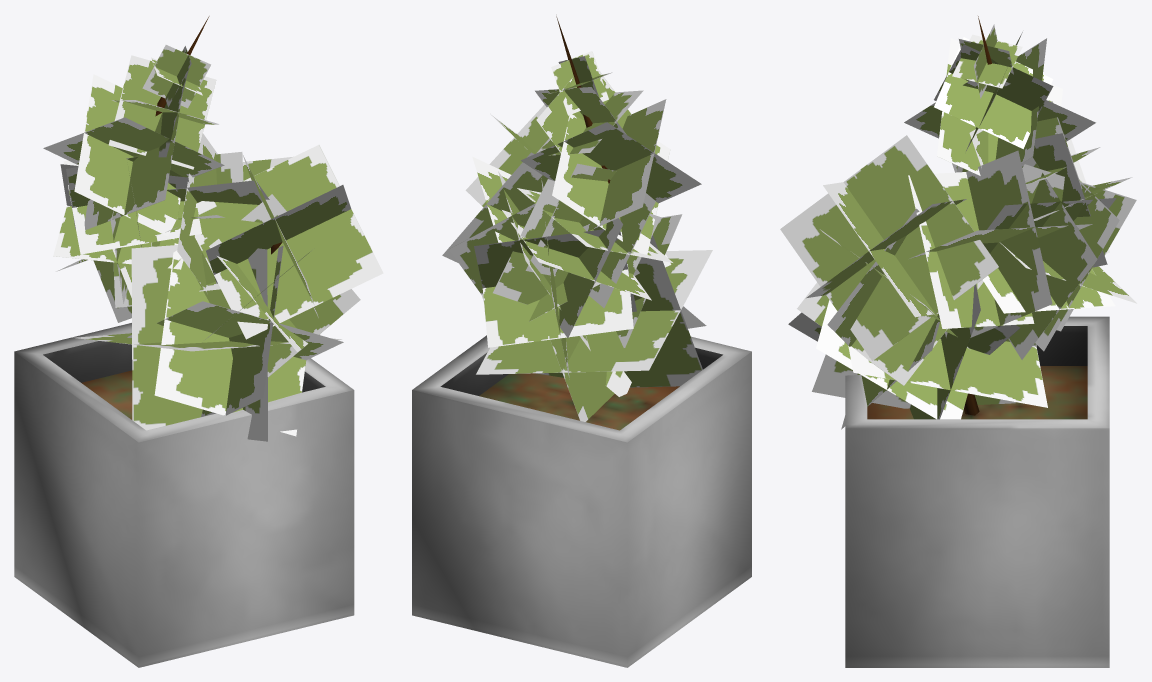
Rendered from Living Room Bush1.fbx.
3 renders of one model, left to right at view 1: azimuth 30°, elevation 25°; view 2: azimuth 150°, elevation 25°; view 3: azimuth 270°, elevation 25°, orthographic. The views are drawn at different scales.
Parts seen in each view (by area): view 1: Living Room Bush1; view 2: Living Room Bush1; view 3: Living Room Bush1.
Part boxes in pixels (left/top/right/bottom): Living Room Bush1: left=14, top=16, right=383, bottom=667; Living Room Bush1: left=412, top=16, right=751, bottom=667; Living Room Bush1: left=780, top=16, right=1136, bottom=667.
Size of the model in its own units: 0.7261 by 1.53 by 0.8125.
2 materials, 2 textured.
